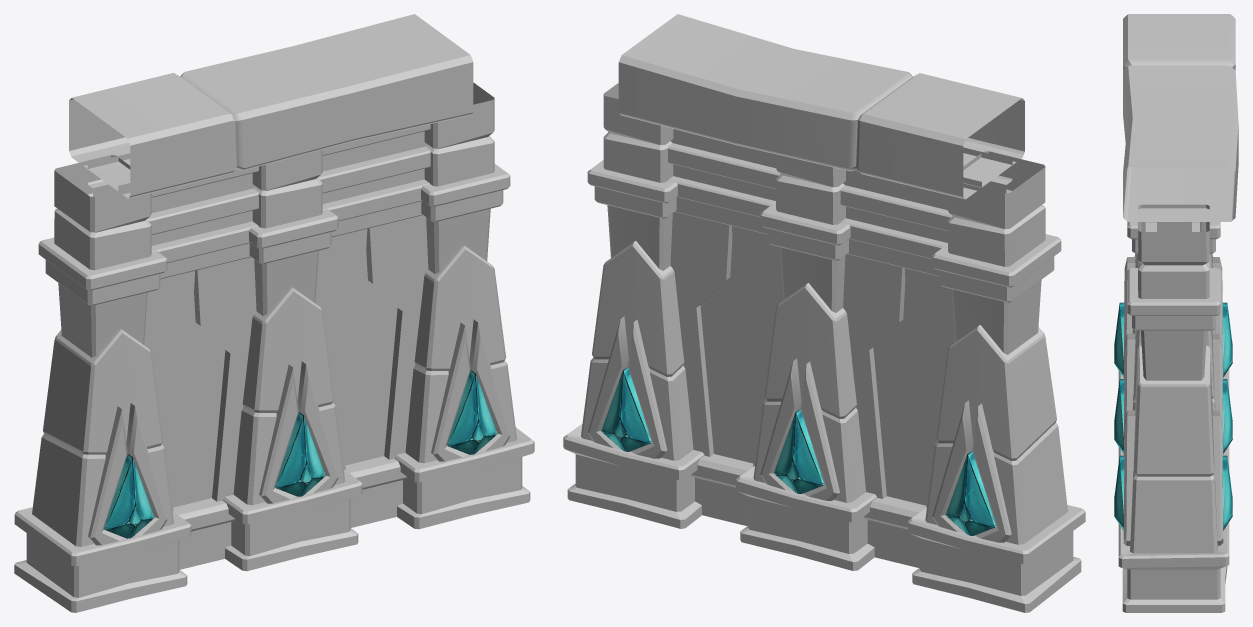
The model's file is Moonset_FBX_wall_04_base_00.fbx.
3 views of the same model, side by side, from view 1: azimuth 30°, elevation 25°; view 2: azimuth 150°, elevation 25°; view 3: azimuth 270°, elevation 25° (orthographic). The views are drawn at different scales.
Parts seen in each view (by area): view 1: Wall_4_base, Wall_4_Gem_Pillar1, Wall_4_Gem_Pillar2, Wall_4_Gem_Pillar; view 2: Wall_4_base, Wall_4_Gem_Pillar1, Wall_4_Gem_Pillar2, Wall_4_Gem_Pillar; view 3: Wall_4_Gem_Pillar2, Wall_4_base, Wall_4_Gem_Pillar, Wall_4_Gem_Pillar1.
Boxes of the visible parts, x1,y1,x2,y2 form: Wall_4_base: (69,14,473,569); Wall_4_Gem_Pillar1: (14,155,191,612); Wall_4_Gem_Pillar2: (394,82,534,529); Wall_4_Gem_Pillar: (222,149,362,571); Wall_4_base: (618,14,1024,567); Wall_4_Gem_Pillar1: (908,151,1085,612); Wall_4_Gem_Pillar2: (563,83,704,528); Wall_4_Gem_Pillar: (736,154,876,570); Wall_4_Gem_Pillar2: (1114,204,1232,612); Wall_4_base: (1123,14,1238,231); Wall_4_Gem_Pillar: (1114,222,1232,469); Wall_4_Gem_Pillar1: (1114,253,1232,392).
Size of the model in its own units: 8.11 by 7.67 by 2.06.
